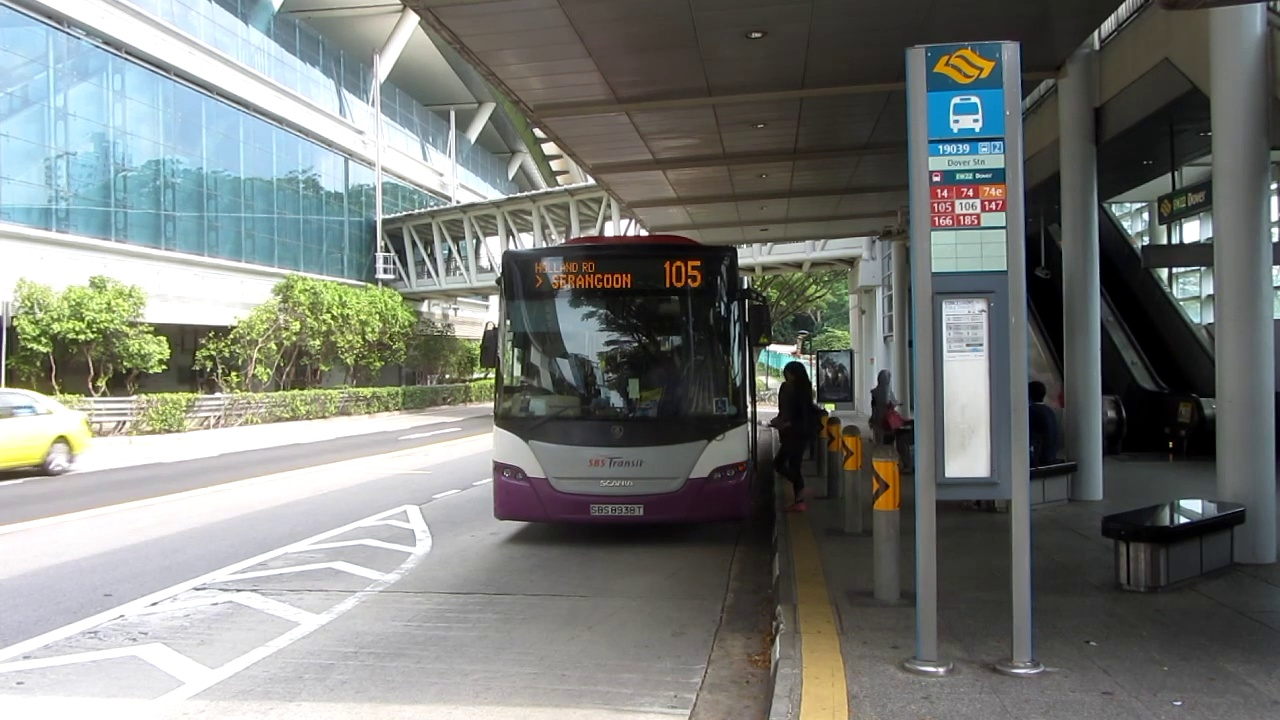bus panel: (528, 255, 712, 292)
